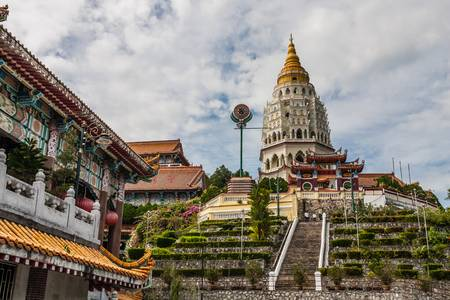Buddhist Temple: (234, 29, 343, 183)
